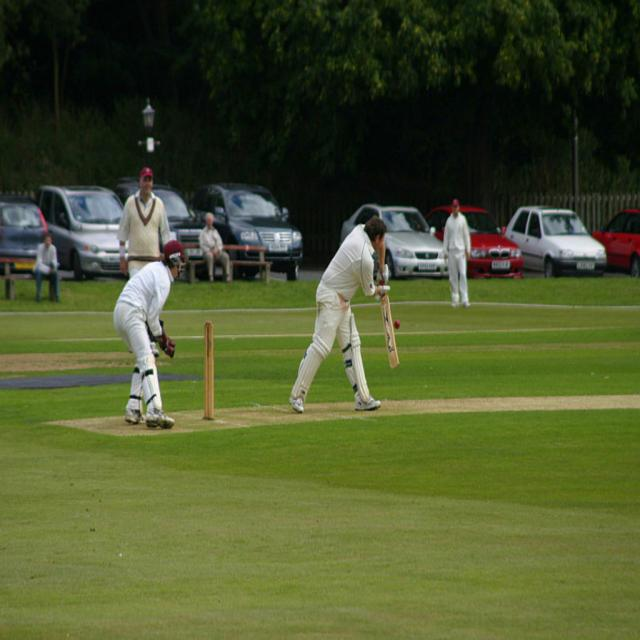other: (0, 176, 639, 278), (195, 185, 304, 278), (39, 182, 122, 277), (340, 205, 449, 277), (421, 201, 521, 274), (506, 204, 606, 277), (116, 180, 205, 261), (0, 204, 49, 269), (595, 208, 639, 273)
